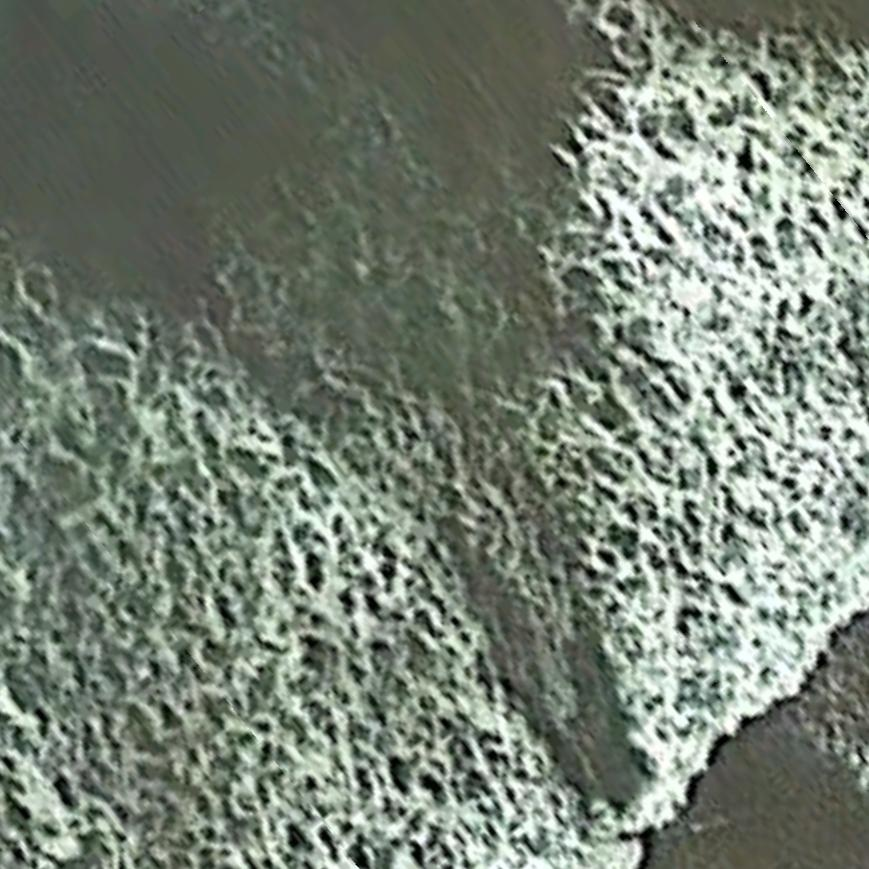rip_current: (372, 332, 710, 823)
